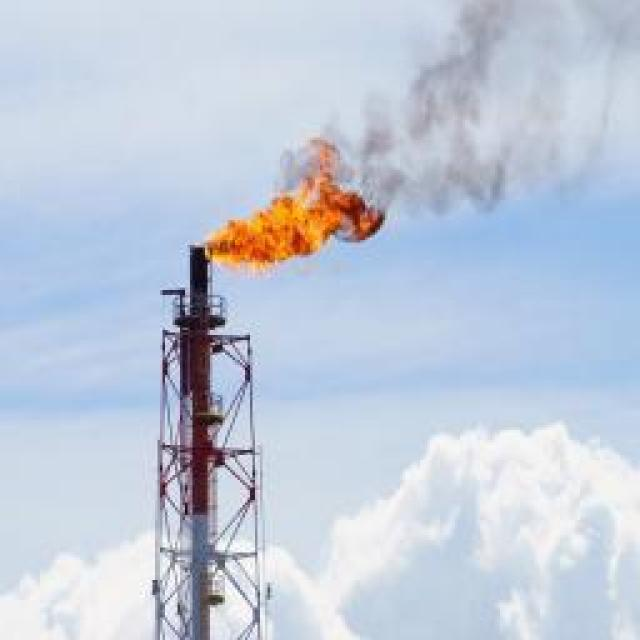fire: (200, 138, 388, 272)
smoke: (273, 0, 640, 214)
